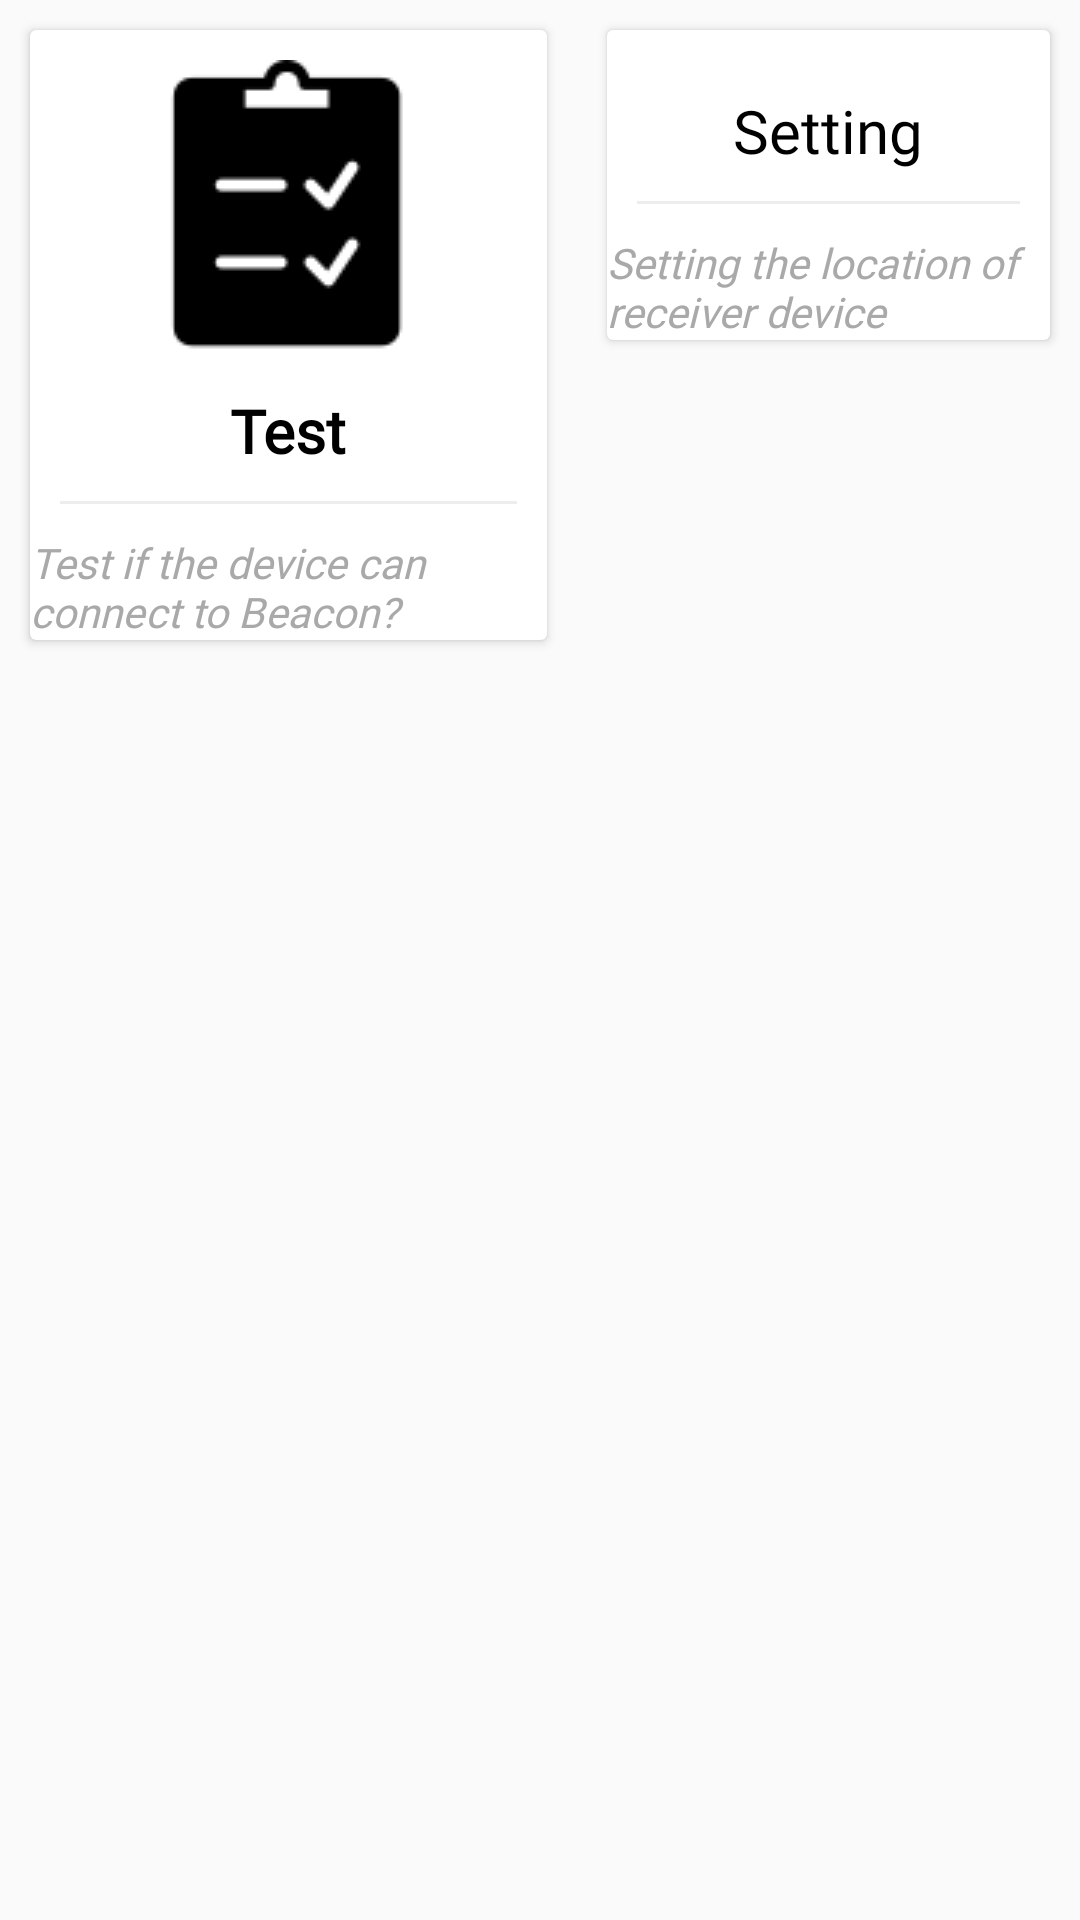

Locate icon controls on the screen. Image size 1080px x 1920px, boxes as (x1, y1, x2, y2).
checked: (172, 60, 403, 348)
